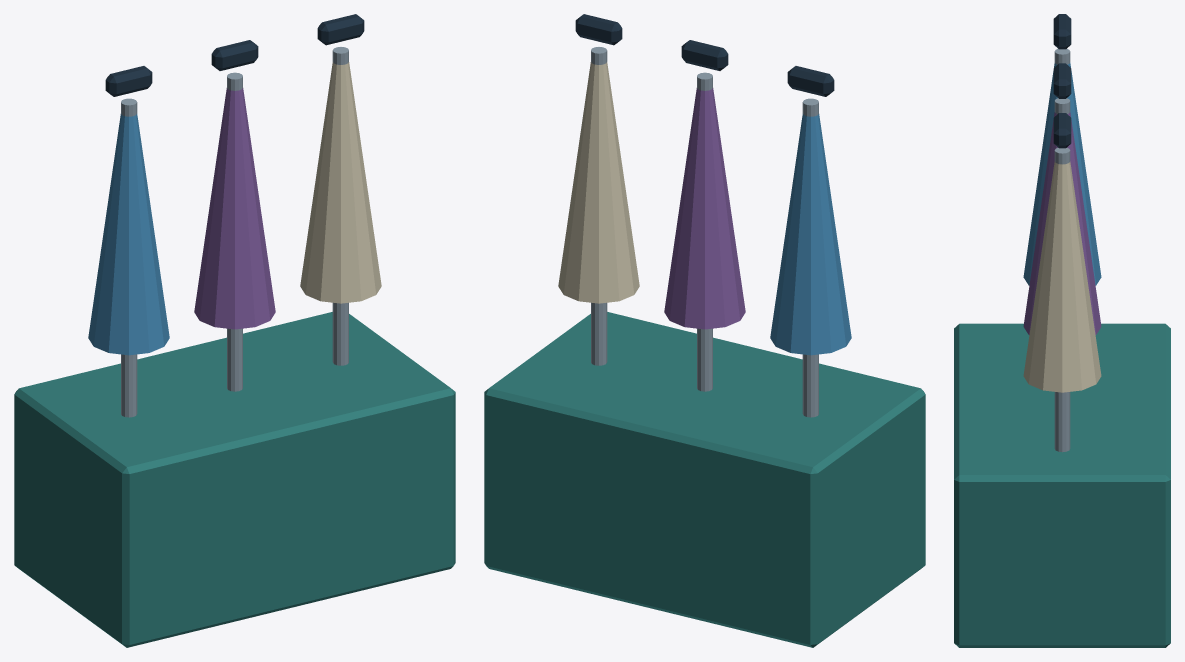
The model's file is umbrellas.glb.
The picture shows the model from 3 angles, left to right: view 1: azimuth 30°, elevation 25°; view 2: azimuth 150°, elevation 25°; view 3: azimuth 270°, elevation 25°; orthographic projection. The views are drawn at different scales.
Visible parts, largest first — view 1: Base, Target0, Target2, Target1; view 2: Base, Target0, Target2, Target1; view 3: Base, Target2, Target1, Target0.
Part boxes in pixels (x1=…): Base: x1=14, y1=312, x2=455, y2=647; Target0: x1=88, y1=66, x2=169, y2=417; Target2: x1=300, y1=14, x2=381, y2=365; Target1: x1=194, y1=40, x2=275, y2=391; Base: x1=484, y1=312, x2=925, y2=647; Target0: x1=770, y1=66, x2=851, y2=417; Target2: x1=558, y1=14, x2=639, y2=365; Target1: x1=664, y1=40, x2=745, y2=391; Base: x1=954, y1=323, x2=1170, y2=647; Target2: x1=1023, y1=113, x2=1101, y2=452; Target1: x1=1023, y1=63, x2=1101, y2=334; Target0: x1=1023, y1=14, x2=1101, y2=285.
Size of the model in its own units: 0.85 by 1.27 by 0.5.
